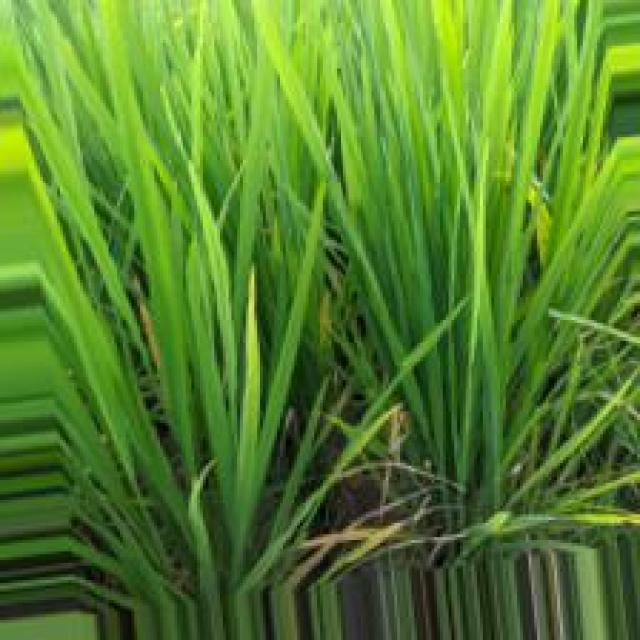HealthyLeaf: (152, 275, 190, 437)
